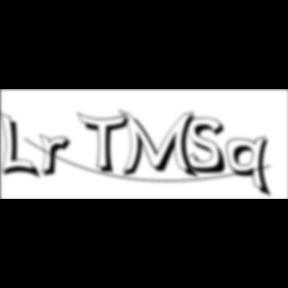L: (1, 110, 44, 182)
M: (118, 108, 202, 181)
S: (187, 117, 233, 176)
T: (77, 112, 135, 176)
q: (226, 135, 276, 200)
r: (40, 134, 78, 180)
